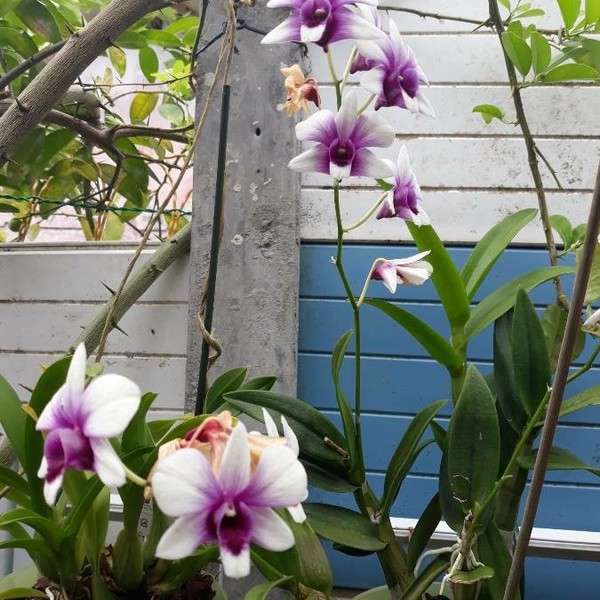obstacle: (45, 337, 315, 586), (381, 213, 560, 565), (239, 10, 438, 183)
